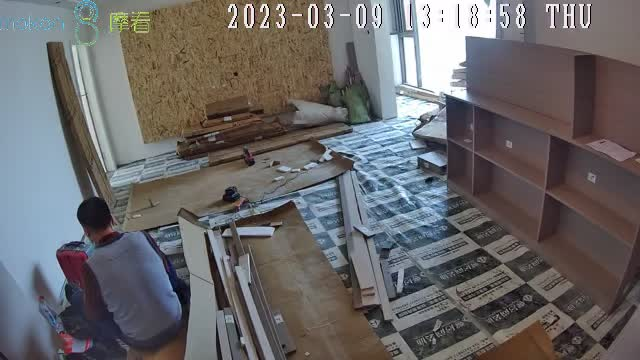people: (77, 197, 191, 350)
window: (394, 1, 496, 90)
